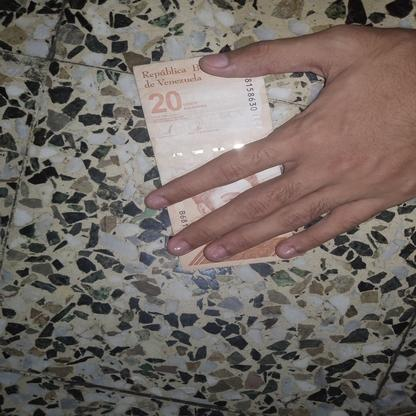twenty-front-vef: (132, 55, 296, 271)
